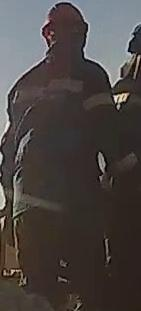gloves: (0, 193, 19, 247)
helmet: (39, 2, 89, 37)
vest: (8, 58, 106, 223)
